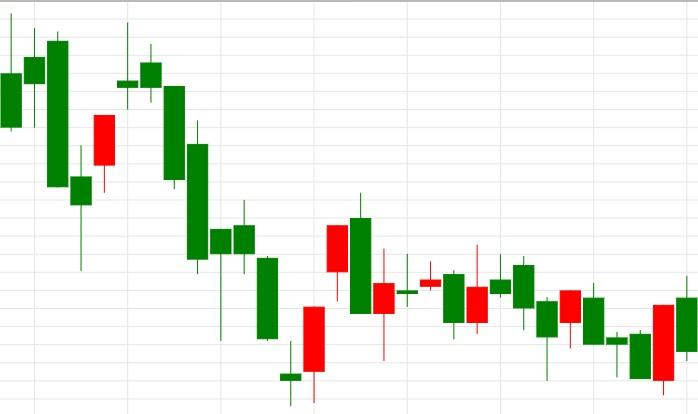morning_star_rise: (140, 44, 325, 406)
